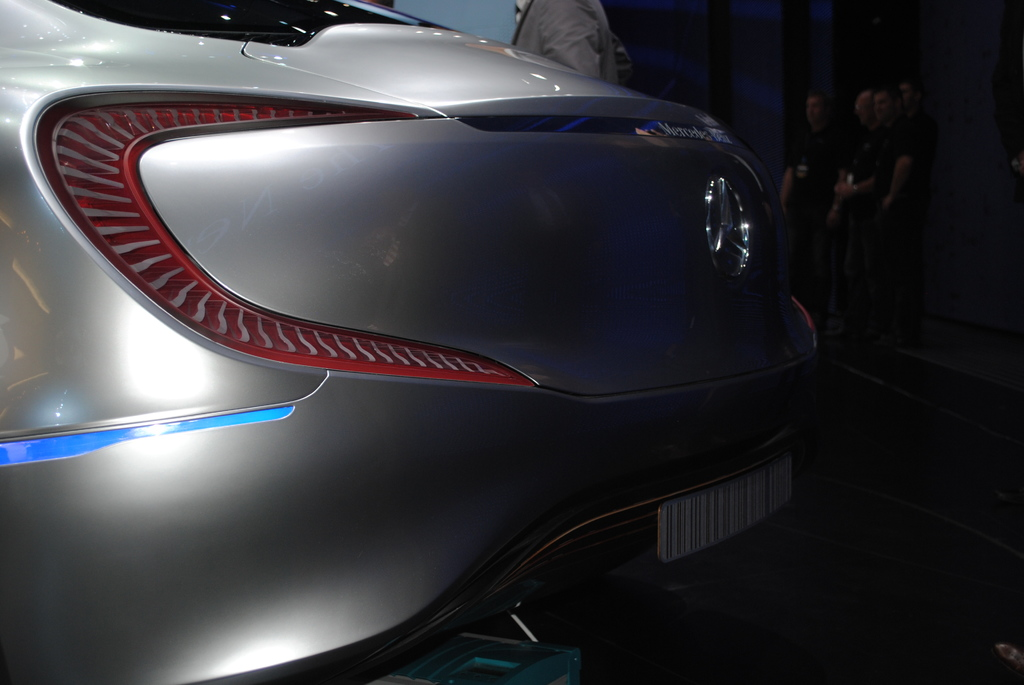Car: (20, 21, 812, 614)
